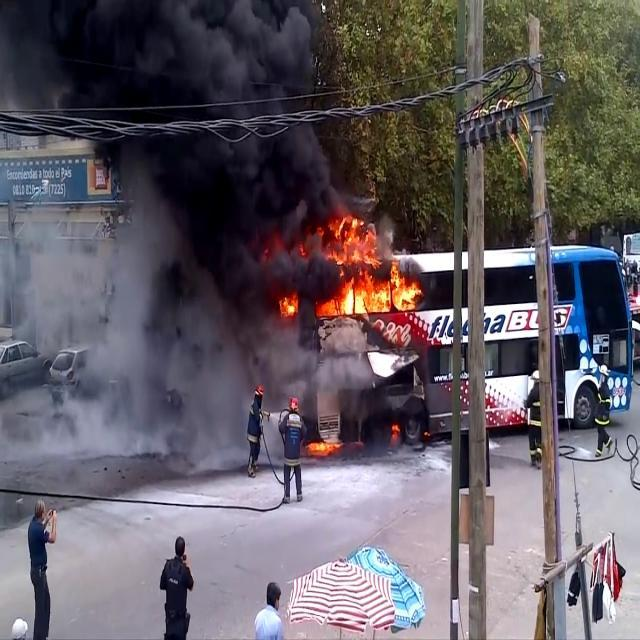Fire: (319, 211, 424, 319), (305, 431, 343, 458), (276, 291, 300, 321)
Smoke: (1, 1, 343, 480)
